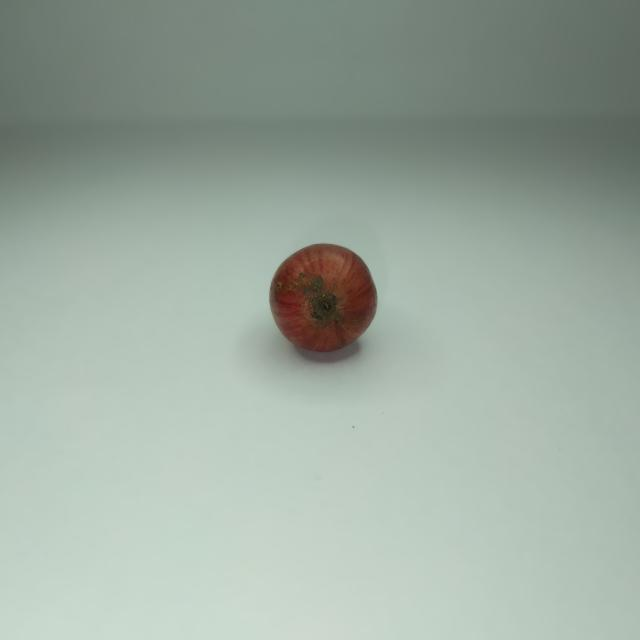Infectado: (270, 244, 376, 353)
